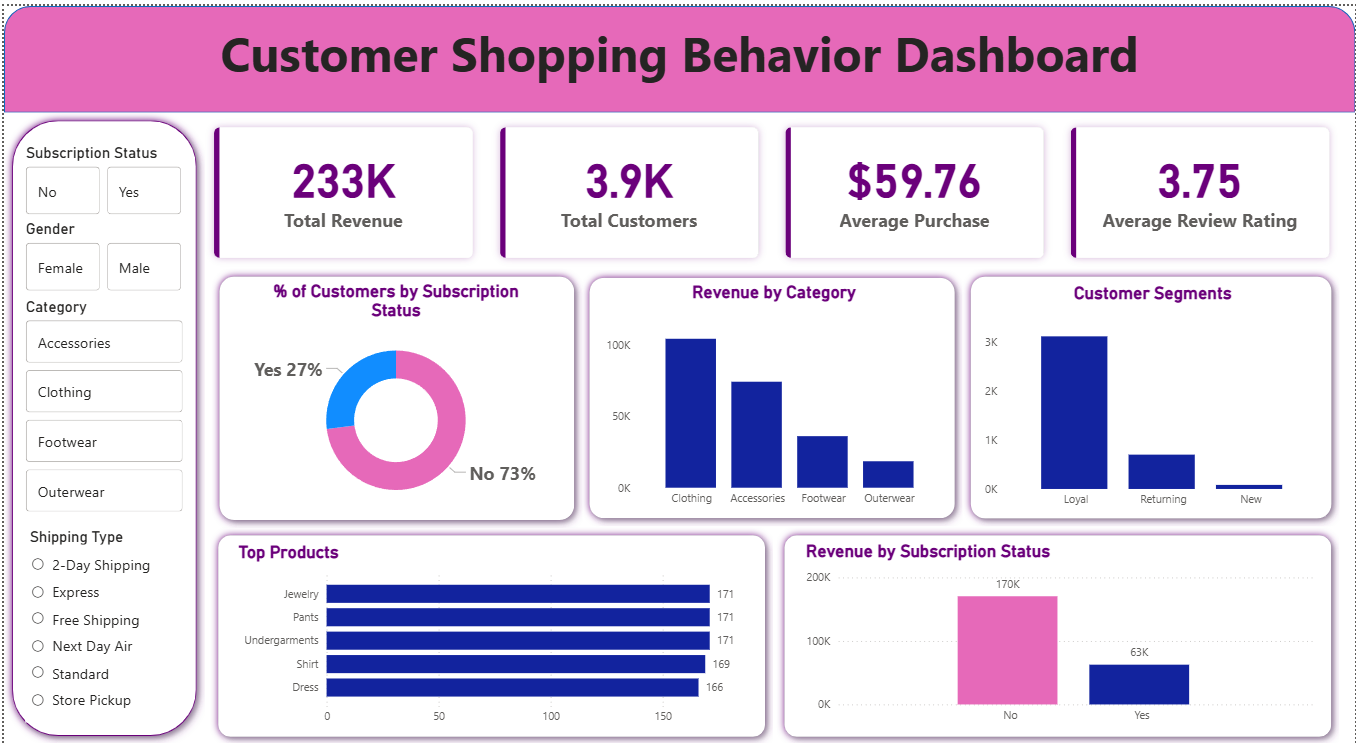

The page's visual inventory and layout, read from the dashboard file:
{"tool":"powerbi","page":{"name":"Page 1","canvas":[1500,820],"ordinal":0},"visuals":[{"type":"cardVisual","fields":{"Data":["public customer.Total Revenue","public customer.Number of Customers","public customer.Average Purchase Amount","public customer.Average Review Rating"]},"box":[205,106.7,1295,201.7],"z":0},{"type":"shape","box":[0,0,1500.3,118.3],"z":1000},{"type":"textbox","box":[0,11.5,1500.3,106.8],"z":2000},{"type":"shape","box":[230,291.7,411.7,288.3],"z":3000},{"type":"donutChart","title":"% of Customers by Subscription Status","fields":{"Y":["Count(public customer.customer_id)"],"Category":["public customer.subscription_status"]},"box":[251.7,305,368.3,261.7],"z":4000},{"type":"shape","box":[1065,291.7,418.3,286.7],"z":5000},{"type":"shape","box":[641.7,293.3,423.3,285],"z":6000},{"type":"clusteredColumnChart","title":"Revenue by Category","fields":{"Y":["Sum(public customer.purchase_amount)"],"Category":["public customer.category"]},"box":[663.3,306.7,383.3,258.3],"z":7000},{"type":"clusteredColumnChart","title":"Customer Segments","fields":{"Category":["public customer.Customer Segment"],"Y":["CountNonNull(public customer.customer_id)"]},"box":[1083.3,308.3,383.3,258.3],"z":8000},{"type":"shape","box":[0,118.6,222.9,701.4],"z":9000},{"type":"advancedSlicerVisual","title":"Subscription Status","fields":{"Values":["public customer.subscription_status"]},"box":[20,152.9,182.9,84.3],"z":10000},{"type":"advancedSlicerVisual","title":"Gender","fields":{"Values":["public customer.gender"]},"box":[20,237.8,183.3,84.4],"z":11000},{"type":"advancedSlicerVisual","title":"Category","fields":{"Values":["public customer.category"]},"box":[20,323.3,184.4,244.4],"z":12000},{"type":"listSlicer","fields":{"Values":["public customer.shipping_type"]},"box":[23.3,578.3,161.7,216.7],"z":13000},{"type":"shape","box":[228.3,578.3,625,241.7],"z":14000},{"type":"shape","box":[858.3,578.3,625,241.7],"z":15000},{"type":"clusteredColumnChart","title":"Revenue by Subscription Status","fields":{"Category":["public customer.subscription_status"],"Y":["Sum(public customer.purchase_amount)"]},"box":[885,593.3,573.3,211.7],"z":16000},{"type":"clusteredBarChart","title":"Top Products","fields":{"Category":["public customer.item_purchased"],"Y":["CountNonNull(public customer.item_purchased)"]},"box":[255,595,573.3,211.7],"z":17000}]}

Visuals, with their boxes in screenshot pixels (x1, y1, x2, y2), scaled from the page's 1500x820 canvas onto the 1356x743 screenshot:
cardVisual - public customer.Total Revenue x public customer.Number of Customers: pyautogui.locateOnScreen(185, 97, 1355, 279)
shape: pyautogui.locateOnScreen(0, 0, 1355, 107)
textbox: pyautogui.locateOnScreen(0, 10, 1355, 107)
shape: pyautogui.locateOnScreen(208, 264, 580, 526)
"% of Customers by Subscription Status" donutChart: pyautogui.locateOnScreen(228, 276, 560, 513)
shape: pyautogui.locateOnScreen(963, 264, 1341, 524)
shape: pyautogui.locateOnScreen(580, 266, 963, 524)
"Revenue by Category" clusteredColumnChart: pyautogui.locateOnScreen(600, 278, 946, 512)
"Customer Segments" clusteredColumnChart: pyautogui.locateOnScreen(979, 279, 1326, 513)
shape: pyautogui.locateOnScreen(0, 107, 202, 742)
"Subscription Status" advancedSlicerVisual: pyautogui.locateOnScreen(18, 139, 183, 215)
"Gender" advancedSlicerVisual: pyautogui.locateOnScreen(18, 215, 184, 292)
"Category" advancedSlicerVisual: pyautogui.locateOnScreen(18, 293, 185, 514)
listSlicer - public customer.shipping_type: pyautogui.locateOnScreen(21, 524, 167, 720)
shape: pyautogui.locateOnScreen(206, 524, 771, 742)
shape: pyautogui.locateOnScreen(776, 524, 1341, 742)
"Revenue by Subscription Status" clusteredColumnChart: pyautogui.locateOnScreen(800, 538, 1318, 729)
"Top Products" clusteredBarChart: pyautogui.locateOnScreen(231, 539, 749, 731)
